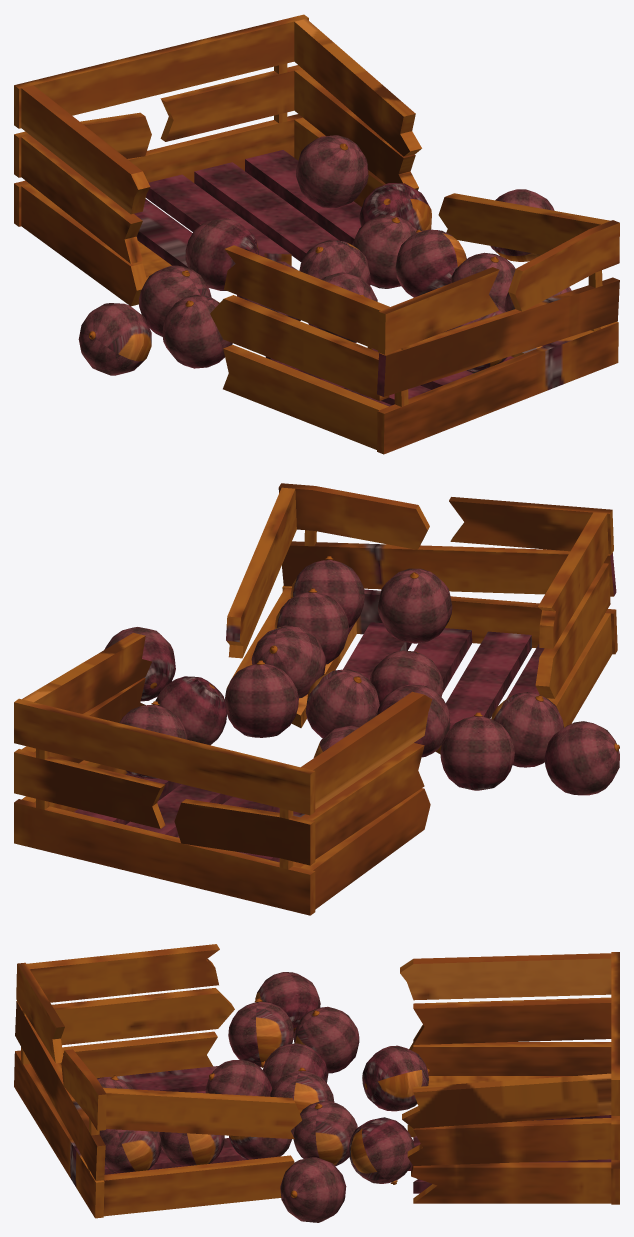
File: broken fruit crate_8.fbx
The picture shows the model from 3 angles, top to bottom: view 1: azimuth 30°, elevation 25°; view 2: azimuth 150°, elevation 25°; view 3: azimuth 270°, elevation 25°; orthographic projection. The views are drawn at different scales.
Parts seen in each view (by area): view 1: Cube.049, Cube.048, Plane.2066, Plane.2067, Plane.2070, Plane.2068, Plane.2060, Plane.2072, Plane.2055, Plane.2063, Plane.2071, Plane.2065 (+2 smaller); view 2: Cube.049, Cube.048, Plane.2055, Plane.2067, Plane.2072, Plane.2062, Plane.2071, Plane.2070, Plane.2063, Plane.2068, Plane.2065, Plane.2059 (+4 smaller); view 3: Cube.049, Cube.048, Plane.2063, Plane.2069, Plane.2060, Plane.2070, Plane.2072, Plane.2055, Plane.2059, Plane.2067, Plane.2056, Plane.2065 (+3 smaller).
Part boxes in pixels (<box>): Cube.049: <box>14,14,421,306</box>; Cube.048: <box>210,193,619,454</box>; Plane.2066: <box>296,135,368,208</box>; Plane.2067: <box>78,303,151,375</box>; Plane.2070: <box>162,295,232,368</box>; Plane.2068: <box>395,229,466,297</box>; Plane.2060: <box>185,218,258,290</box>; Plane.2072: <box>352,215,416,288</box>; Plane.2055: <box>139,265,211,336</box>; Plane.2063: <box>359,183,431,230</box>; Plane.2071: <box>299,240,370,285</box>; Plane.2065: <box>450,252,515,309</box>; Cube.049: <box>14,633,432,915</box>; Cube.048: <box>226,483,617,754</box>; Plane.2055: <box>440,712,514,790</box>; Plane.2067: <box>544,721,619,795</box>; Plane.2072: <box>224,660,298,737</box>; Plane.2062: <box>377,568,452,643</box>; Plane.2071: <box>305,669,379,738</box>; Plane.2070: <box>491,692,563,767</box>; Plane.2063: <box>155,676,227,745</box>; Plane.2068: <box>251,625,326,698</box>; Plane.2065: <box>274,588,348,664</box>; Plane.2059: <box>290,556,364,627</box>; Cube.049: <box>400,952,619,1204</box>; Cube.048: <box>14,944,301,1218</box>; Plane.2063: <box>348,1117,414,1184</box>; Plane.2069: <box>280,1157,346,1222</box>; Plane.2060: <box>362,1045,429,1111</box>; Plane.2070: <box>228,998,293,1067</box>; Plane.2072: <box>293,1101,357,1166</box>; Plane.2055: <box>293,1006,359,1073</box>; Plane.2059: <box>99,1129,161,1173</box>; Plane.2067: <box>255,972,320,1035</box>; Plane.2056: <box>205,1060,271,1096</box>; Plane.2065: <box>159,1132,224,1166</box>.
Size of the model in its own units: 44.83 by 13.31 by 53.78.
